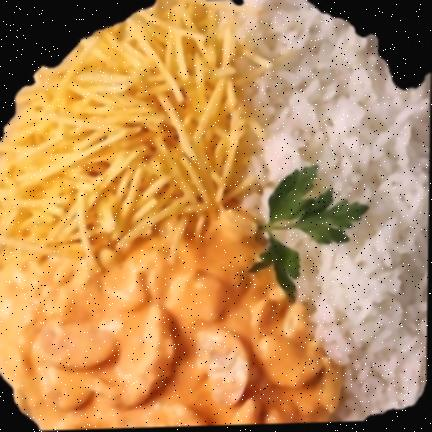chicken: (0, 211, 341, 431), (0, 219, 351, 430)
potato: (0, 0, 270, 270), (0, 0, 239, 272)
rice: (237, 0, 431, 421), (239, 0, 431, 422)
